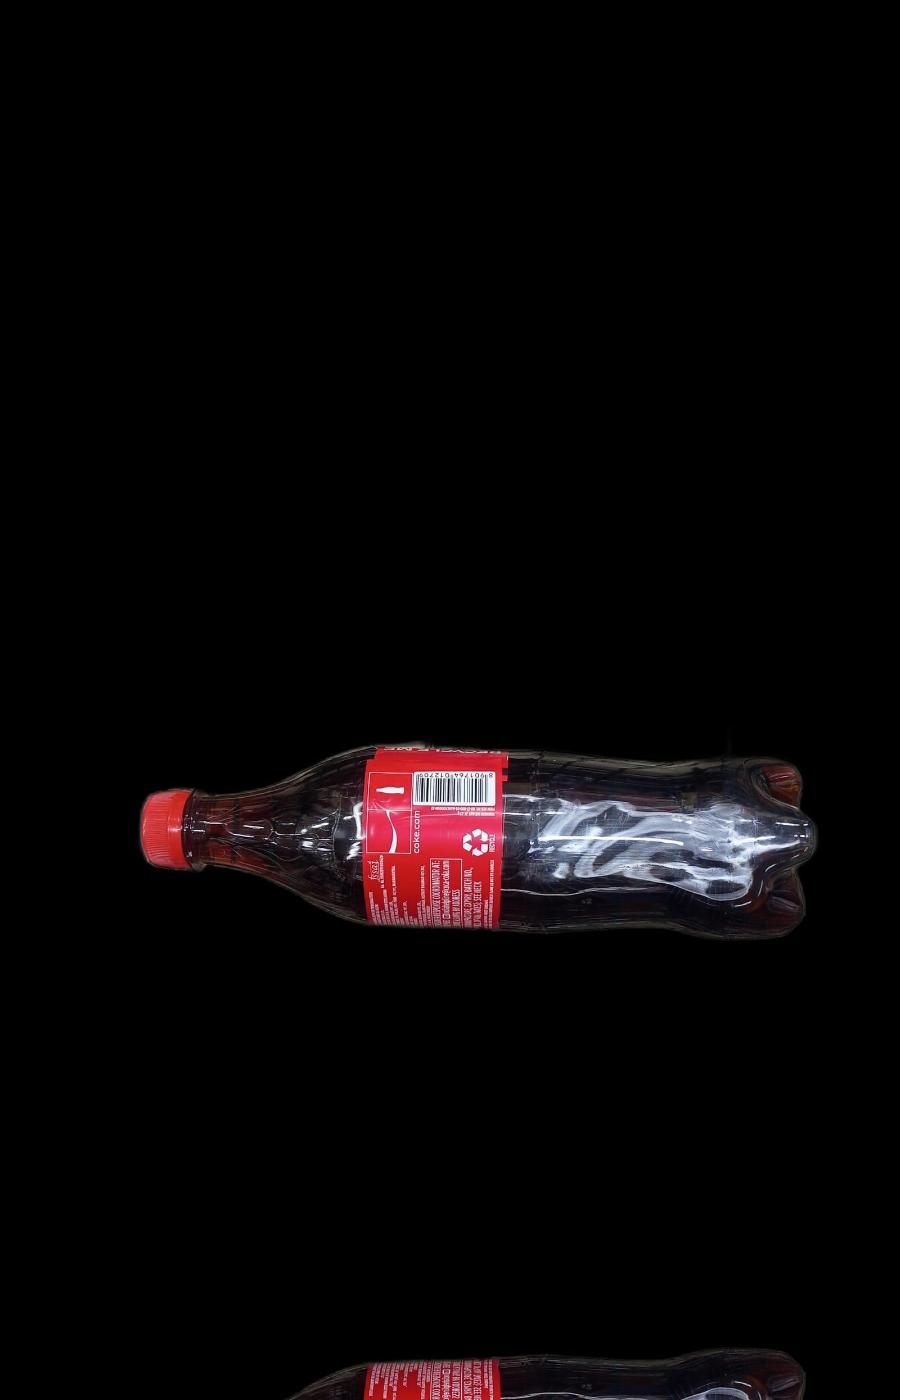Coca-Cola-600 ml-: (141, 741, 815, 944), (141, 1343, 815, 1400)
